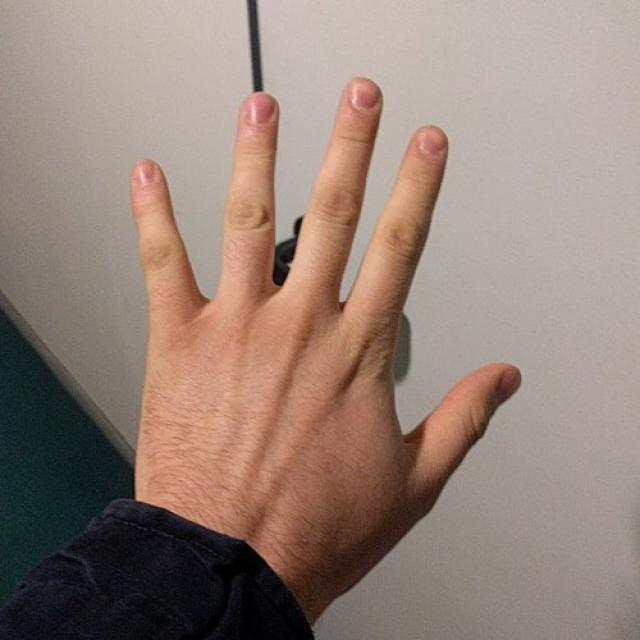paper: (133, 79, 521, 518)
